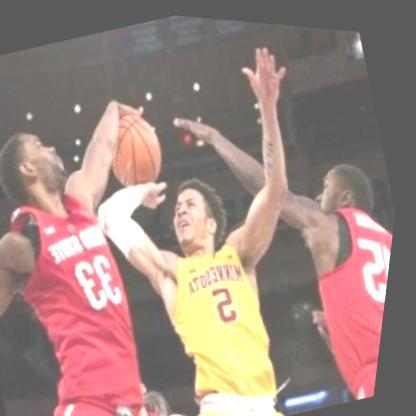basketball: (88, 93, 188, 203)
